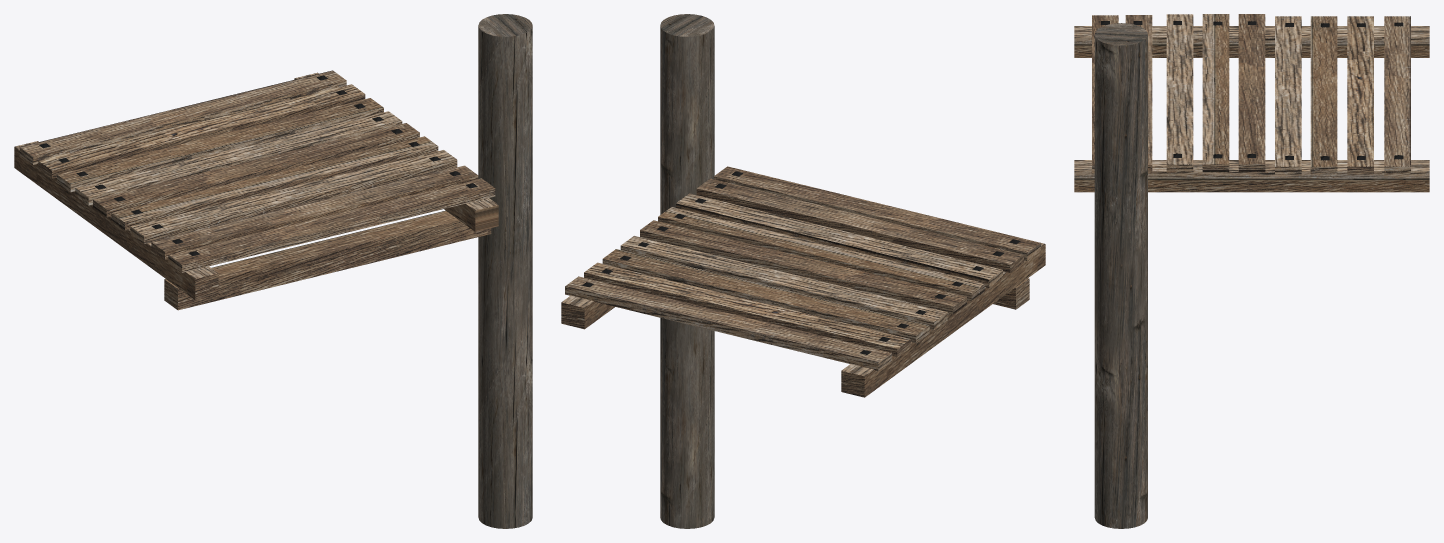
The model's file is plataformaDeMaderaV2.fbx.
3 views of the same model, side by side, from view 1: azimuth 30°, elevation 25°; view 2: azimuth 150°, elevation 25°; view 3: azimuth 270°, elevation 25° (orthographic).
Parts seen in each view (by area): view 1: Plataforma, Columna 6x0.3, viga 4x0.3; view 2: Plataforma, Columna 6x0.3, viga 4x0.3; view 3: Plataforma, Columna 6x0.3.
Boxes of the visible parts, x1,y1,x2,y2 form: Plataforma: [14, 70, 498, 300]; Columna 6x0.3: [478, 14, 532, 528]; viga 4x0.3: [164, 210, 491, 310]; Plataforma: [561, 166, 1045, 397]; Columna 6x0.3: [660, 14, 714, 528]; viga 4x0.3: [993, 278, 1029, 309]; Plataforma: [1074, 14, 1429, 192]; Columna 6x0.3: [1094, 23, 1147, 528].
Size of the model in its own units: 463 by 600 by 400.
3 materials, 2 textured.
